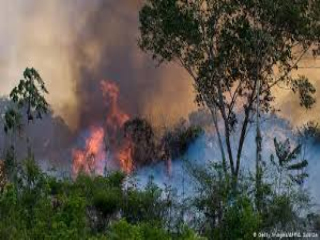fire: (77, 71, 143, 177)
smoke: (161, 114, 313, 217), (63, 5, 174, 103)
